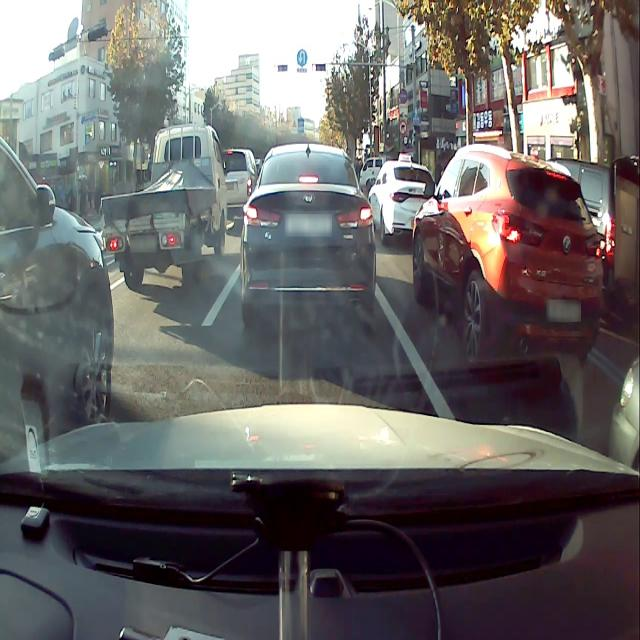Red Light: (274, 64, 278, 73), (312, 63, 316, 72)
